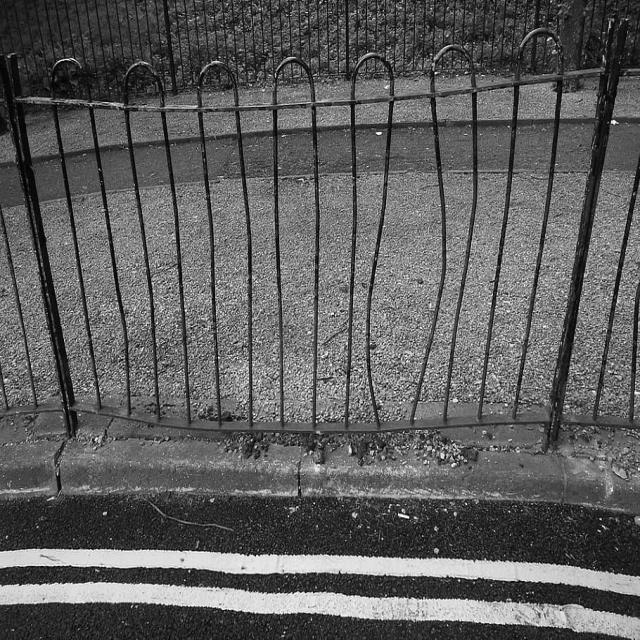fence line: (356, 81, 453, 442)
